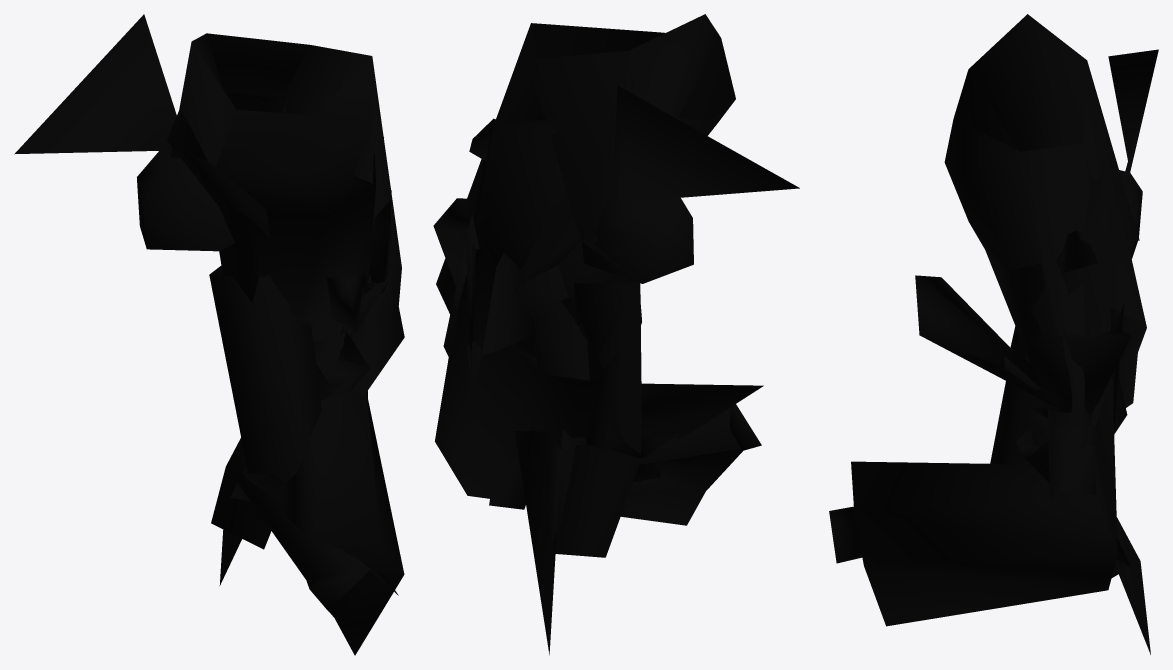
3 renders of one model, left to right at view 1: azimuth 30°, elevation 25°; view 2: azimuth 150°, elevation 25°; view 3: azimuth 270°, elevation 25°, orthographic. The views are drawn at different scales.
Visible parts, largest first — view 1: T1L4M003_5; view 2: T1L4M003_5; view 3: T1L4M003_5.
Part boxes in pixels (x1,y1,x2,y2): T1L4M003_5: [14, 14, 404, 655]; T1L4M003_5: [433, 14, 799, 655]; T1L4M003_5: [829, 14, 1158, 654].
Size of the model in its own units: 1.21 by 1.89 by 0.9418.
